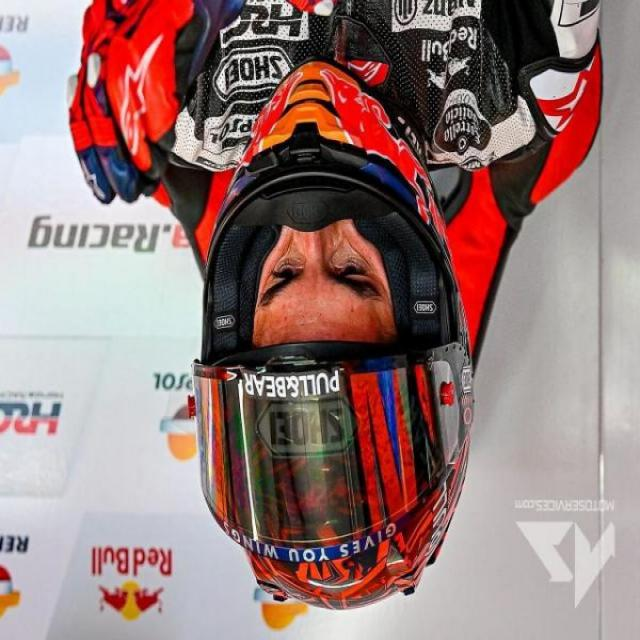Helmet: (184, 83, 486, 601)
